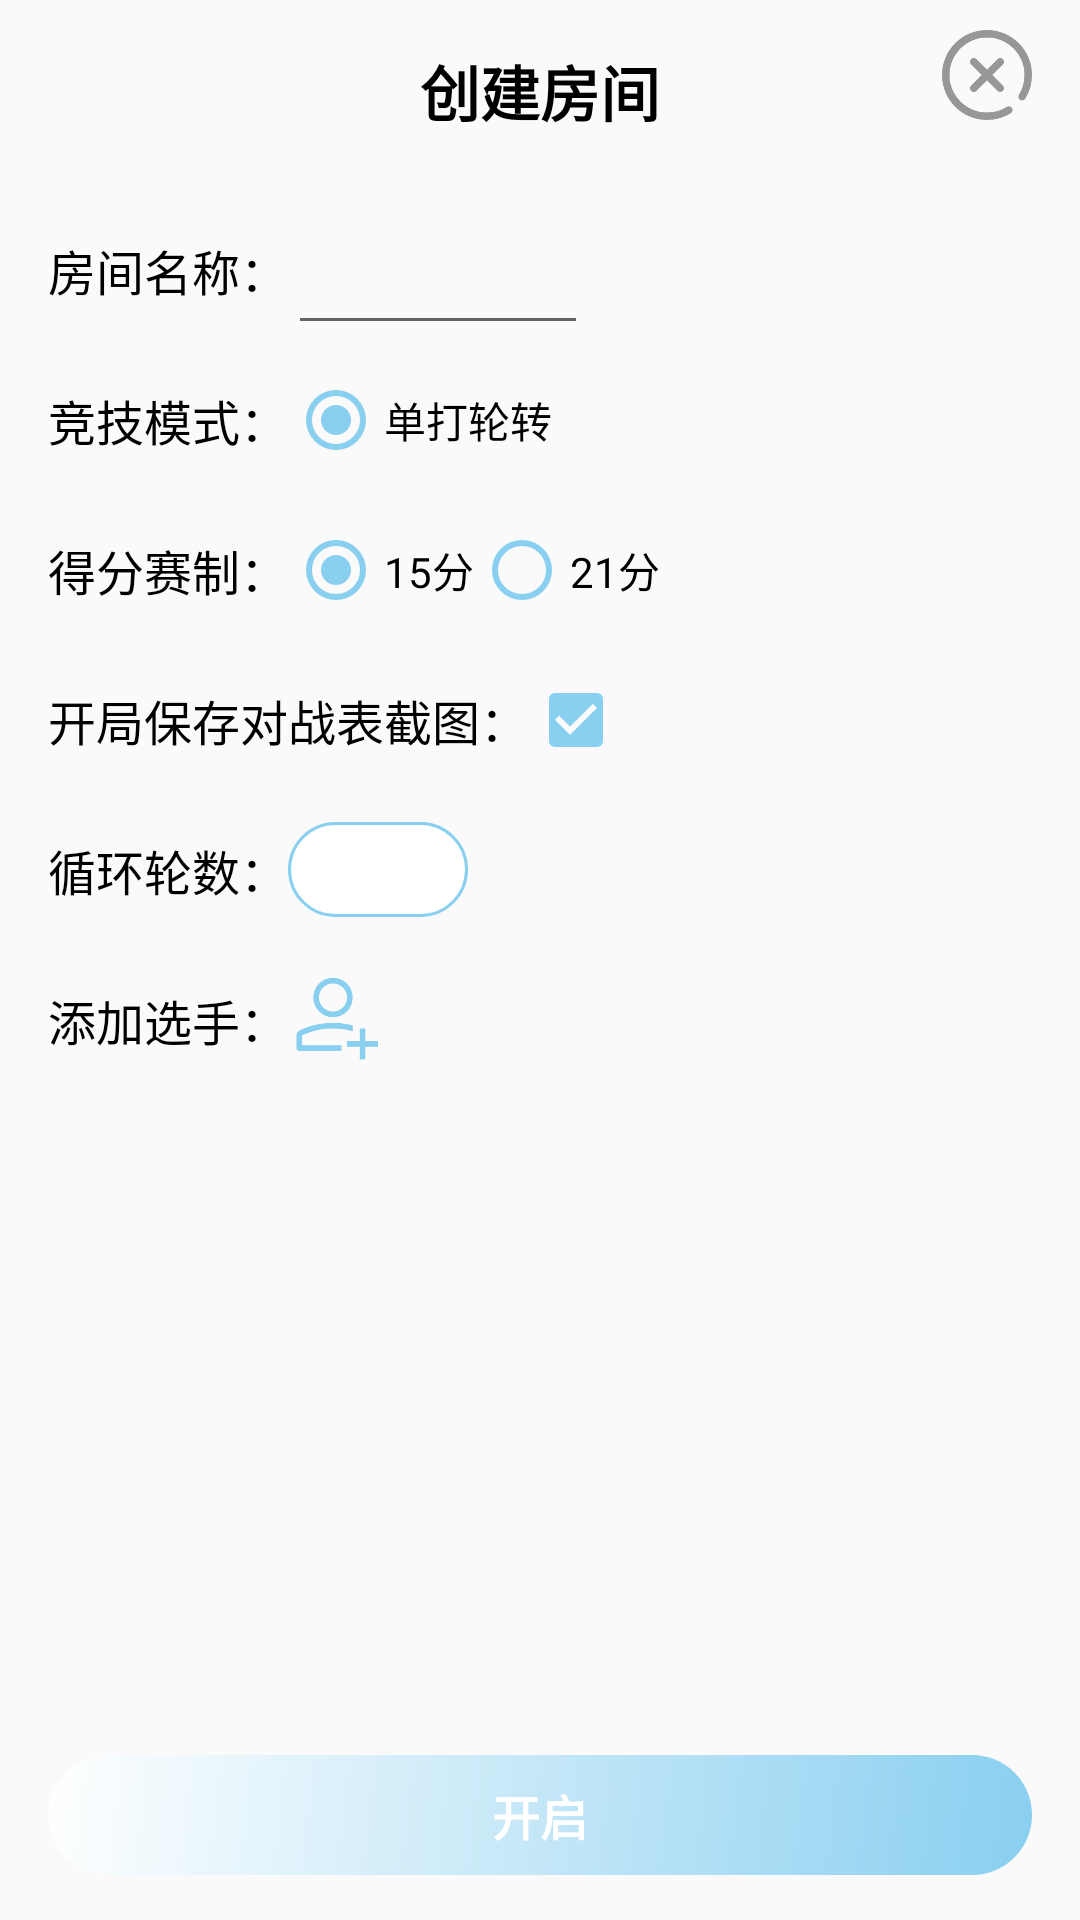

Named icons in this screenshot (1080*1920) and their centers, point (x, y):
add player: point (337, 1019)
close: point (987, 75)
